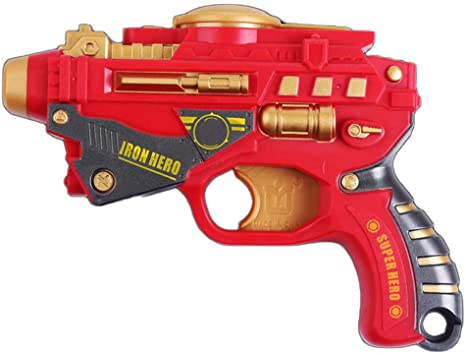Arma Falsa: (1, 4, 466, 350)
